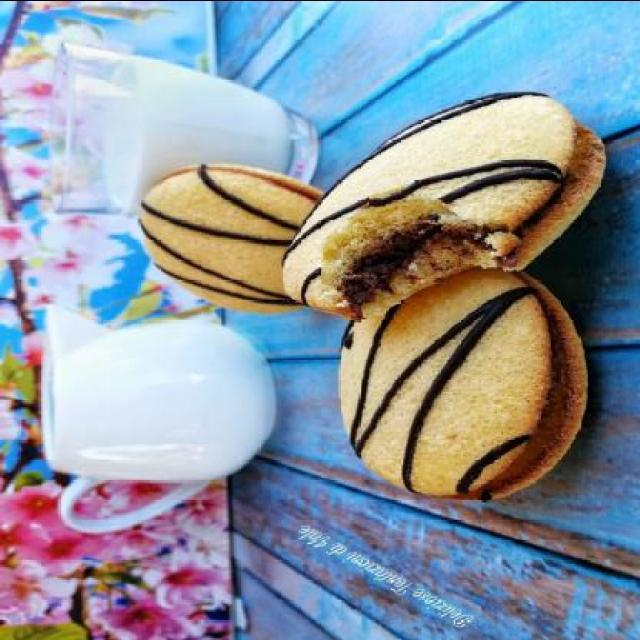Merendine packaged: (278, 90, 616, 318), (336, 262, 596, 504), (137, 162, 360, 316)
